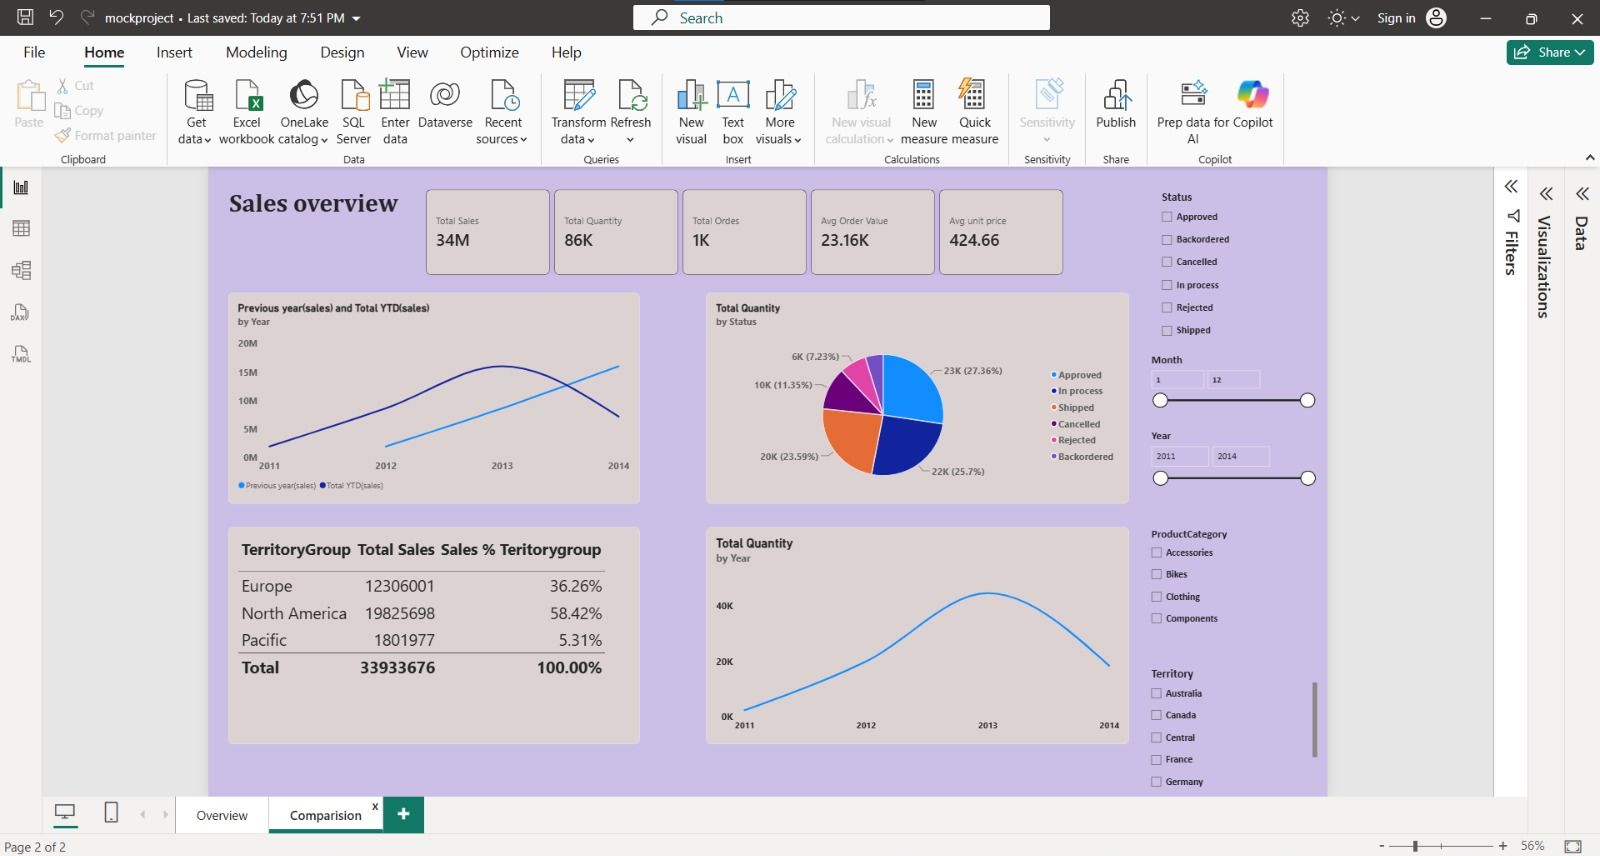

The page's visual inventory and layout, read from the dashboard file:
{"tool":"powerbi","page":{"name":"Comparision","canvas":[1920,1080],"ordinal":1},"visuals":[{"type":"textbox","box":[35,0,292.3,152.3],"z":0},{"type":"cardVisual","fields":{"Data":["Fact sales.Total Sales","Fact sales.Total Quantity","Fact sales.Total Ordes","Fact sales.Avg Order Value","Fact sales.Avg unit price"]},"box":[372.6,39.1,1095,146.1],"z":1000},{"type":"slicer","fields":{"Values":["Dim Order.Status"]},"box":[1626.1,39.1,275.8,279.9],"z":2000},{"type":"slicer","fields":{"Values":["Dim Calender.Month"]},"box":[1609.6,319,292,152],"z":3000},{"type":"slicer","fields":{"Values":["Dim Calender.Year"]},"box":[1609.6,450.8,292.3,148.2],"z":4000},{"type":"slicer","fields":{"Values":["Dim Product.ProductCategory"]},"box":[1609.6,617.5,263.5,185.2],"z":5000},{"type":"slicer","fields":{"Values":["Dim Customer.Territory"]},"box":[1609.6,856.3,292.3,224.4],"z":6000},{"type":"lineChart","fields":{"Category":["Dim Calender.Year"],"Y":["Fact sales.Previous year(sales)","Fact sales.Total YTD(sales)"]},"box":[34.2,215.9,705.6,361.3],"z":7000},{"type":"pieChart","fields":{"Category":["Dim Order.Status"],"Y":["Fact sales.Total Quantity"]},"box":[853.1,215.9,724.8,361.3],"z":8000},{"type":"tableEx","fields":{"Values":["Dim Customer.TerritoryGroup","Fact sales.Total Sales","Fact sales.Sales %"]},"box":[34.2,617.9,705.6,372],"z":9000},{"type":"lineChart","fields":{"Category":["Dim Calender.Date.Variation.Date Hierarchy.Year","Dim Calender.Date.Variation.Date Hierarchy.Quarter","Dim Calender.Date.Variation.Date Hierarchy.Month","Dim Calender.Date.Variation.Date Hierarchy.Day"],"Y":["Fact sales.Total Quantity"]},"box":[853,618,725,372],"z":10000}]}

Visuals, with their boxes on the page's 1920x1080 design canvas (x1, y1, x2, y2). These are canvas units, not pixel positions in the 1600x856 screenshot, which may show the page scaled, cropped or inside an application window:
textbox: <bbox>35, 0, 327, 152</bbox>
cardVisual - Fact sales.Total Sales x Fact sales.Total Quantity: <bbox>373, 39, 1468, 185</bbox>
slicer - Dim Order.Status: <bbox>1626, 39, 1902, 319</bbox>
slicer - Dim Calender.Month: <bbox>1610, 319, 1902, 471</bbox>
slicer - Dim Calender.Year: <bbox>1610, 451, 1902, 599</bbox>
slicer - Dim Product.ProductCategory: <bbox>1610, 618, 1873, 803</bbox>
slicer - Dim Customer.Territory: <bbox>1610, 856, 1902, 1081</bbox>
lineChart - Dim Calender.Year x Fact sales.Previous year(sales): <bbox>34, 216, 740, 577</bbox>
pieChart - Dim Order.Status x Fact sales.Total Quantity: <bbox>853, 216, 1578, 577</bbox>
tableEx - Dim Customer.TerritoryGroup x Fact sales.Total Sales: <bbox>34, 618, 740, 990</bbox>
lineChart - Dim Calender.Date.Variation.Date Hierarchy.Year x Dim Calender.Date.Variation.Date Hierarchy.Quarter: <bbox>853, 618, 1578, 990</bbox>
